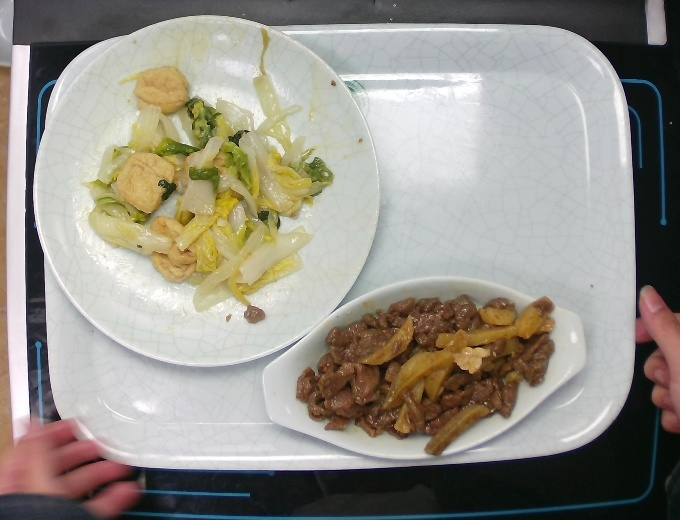JYsf-Da_Yuan_Pan: (29, 11, 386, 373)
JYsf-Yu_Pan: (255, 270, 594, 466)
